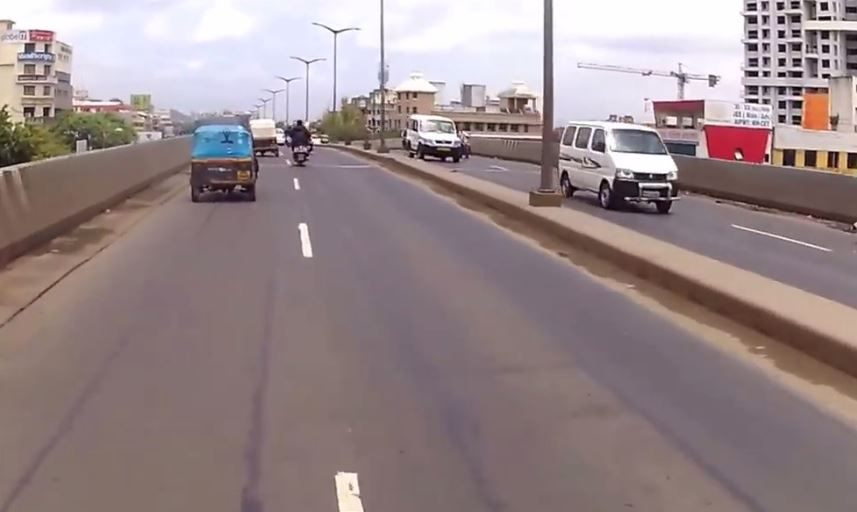autorickshaw: (182, 119, 270, 211), (253, 114, 282, 165)
car: (555, 115, 686, 219), (399, 107, 468, 169)
